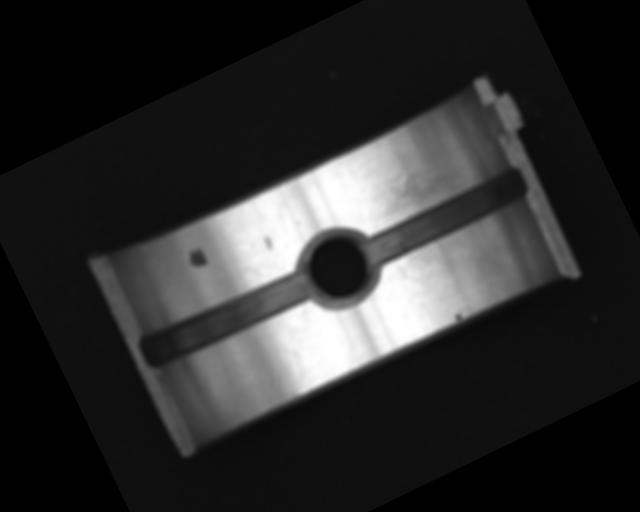blot: (184, 244, 210, 271), (452, 307, 466, 322)
bruise: (261, 235, 274, 251)
gap: (135, 257, 318, 373), (362, 168, 531, 269)
hole: (292, 218, 390, 318)
nick: (269, 315, 306, 373)
scratch: (360, 150, 476, 226)
